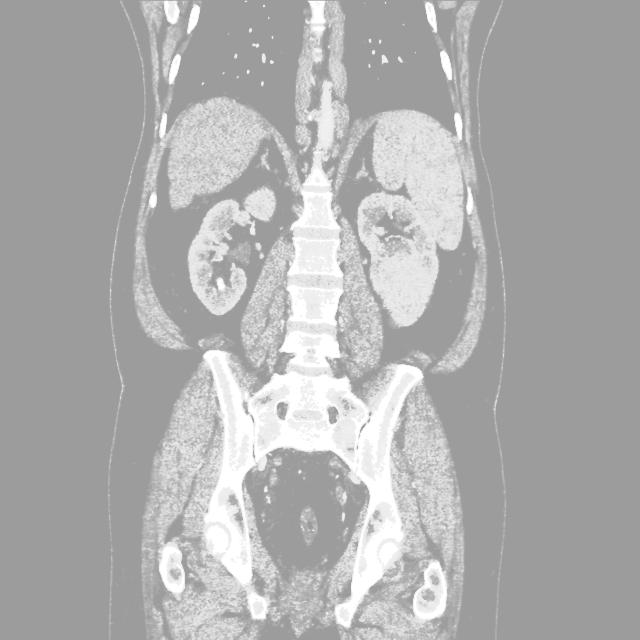TUMOR: (136, 175, 598, 477)
